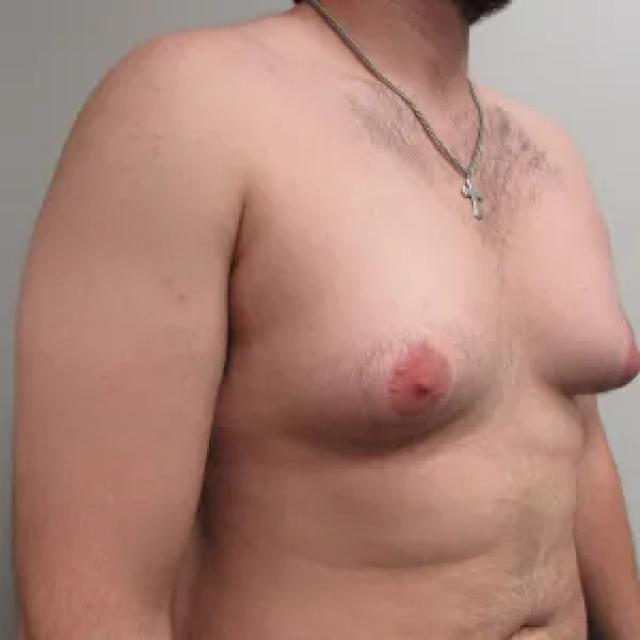Seno ileso: (240, 228, 518, 480), (520, 194, 640, 416)
